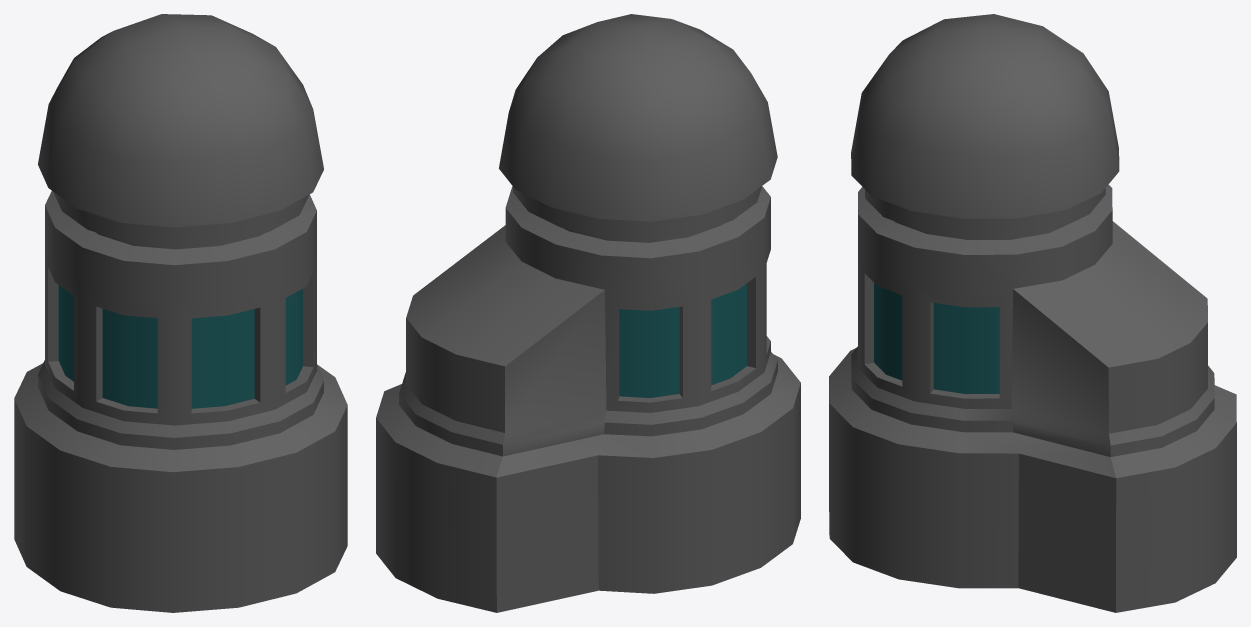
The model's file is building 7_jh_031725.fbx.
3 renders of one model, left to right at view 1: azimuth 30°, elevation 25°; view 2: azimuth 150°, elevation 25°; view 3: azimuth 270°, elevation 25°, orthographic. The views are drawn at different scales.
Parts seen in each view (by area): view 1: Cube.091, Cube.113; view 2: Cube.091, Cube.113; view 3: Cube.091, Cube.113.
Boxes of the visible parts, x1,y1,x2,y2 form: Cube.091: [14, 14, 347, 612]; Cube.113: [58, 285, 302, 408]; Cube.091: [376, 14, 800, 612]; Cube.113: [619, 283, 746, 397]; Cube.091: [829, 14, 1236, 612]; Cube.113: [874, 283, 999, 393].
Size of the model in its own units: 2639 by 3870 by 2890.
